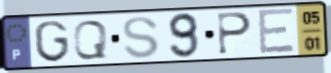9: (166, 11, 202, 61)
E: (255, 7, 297, 57)
G: (32, 19, 72, 64)
P: (216, 11, 254, 57)
Q: (72, 18, 110, 62)
S: (120, 15, 162, 61)
